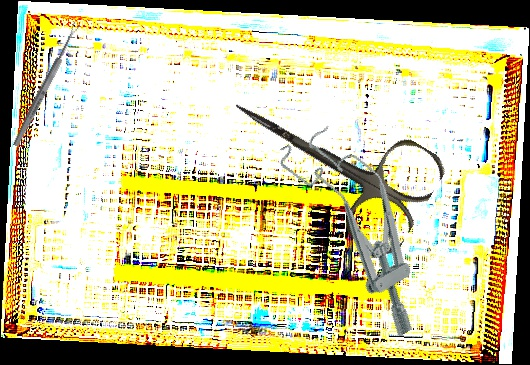Iris Scissors: (207, 53, 451, 263)
Speculum: (272, 112, 456, 346)
Surgical Spoon: (11, 21, 82, 148)
